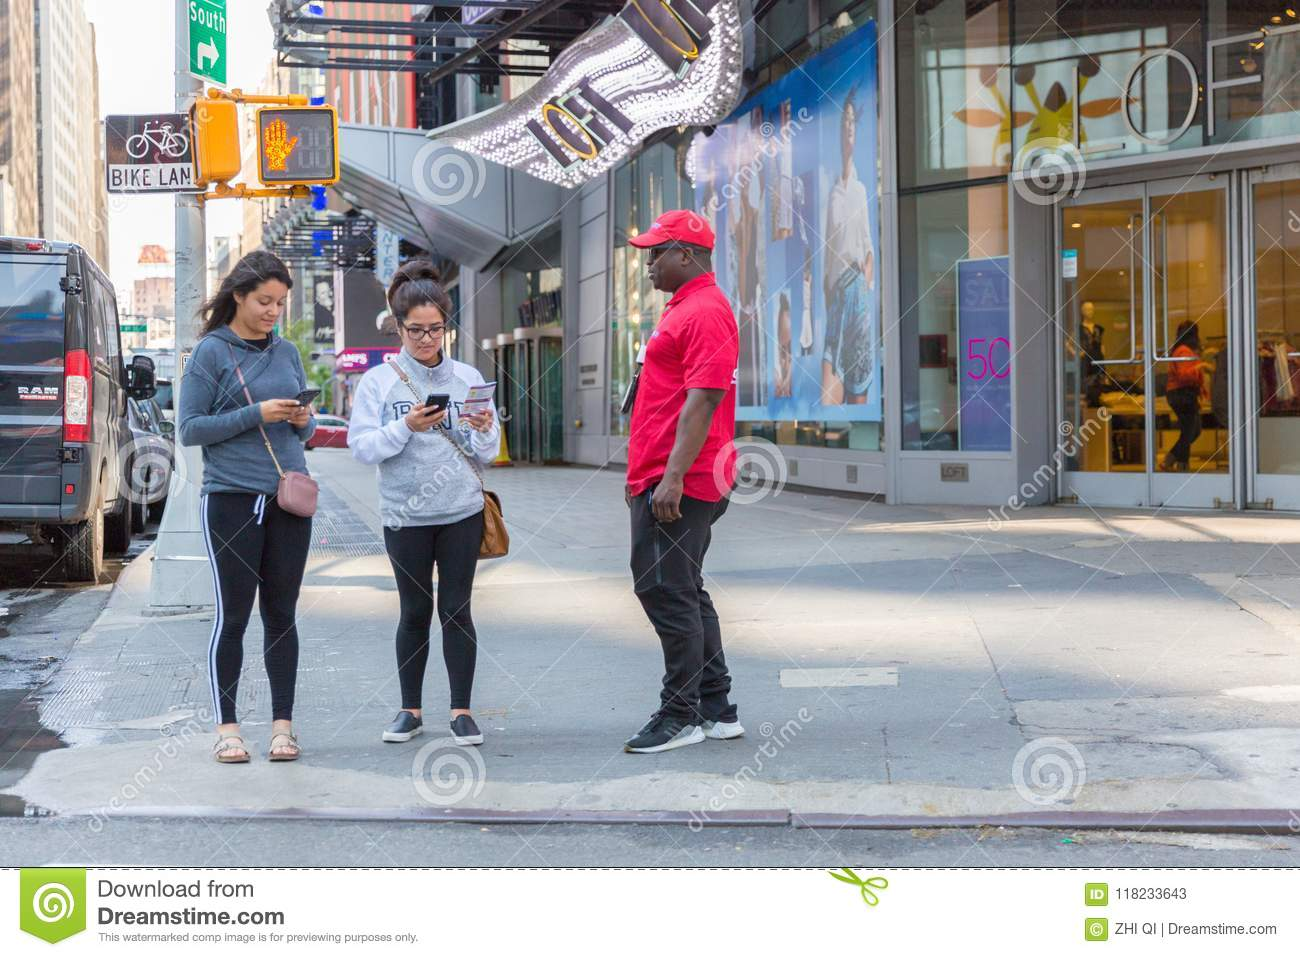person: (602, 200, 760, 768), (342, 260, 518, 760), (172, 240, 334, 778)
